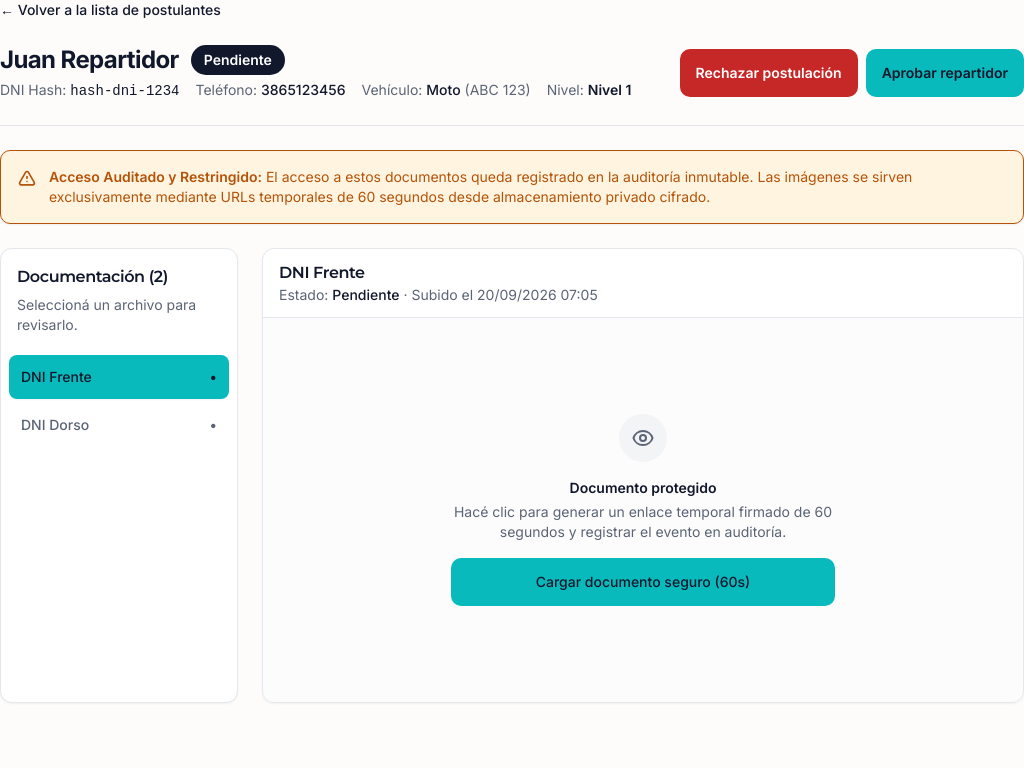
Test: T-380: reactivar o reconsiderar con reinstateCourierAction (CC-034) › la primera decisión (pendiente) también muestra el mensaje claro ante INVALID_STATE_TRANSITION
Click the button "Aprobar repartidor": (945, 72) [866, 48, 1023, 96]
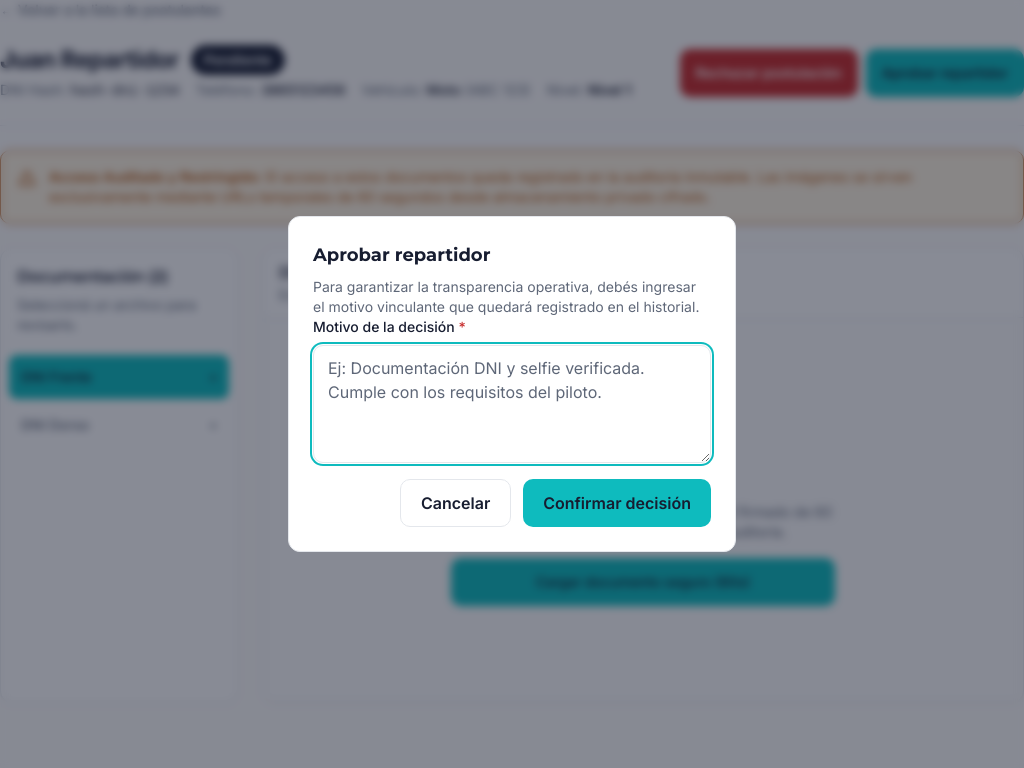
Replace the text in the text box labelled "Motivo de la decisión *" with "Se revisó el reclamo y no hubo falta del repartidor.": (512, 404) [313, 345, 711, 463]
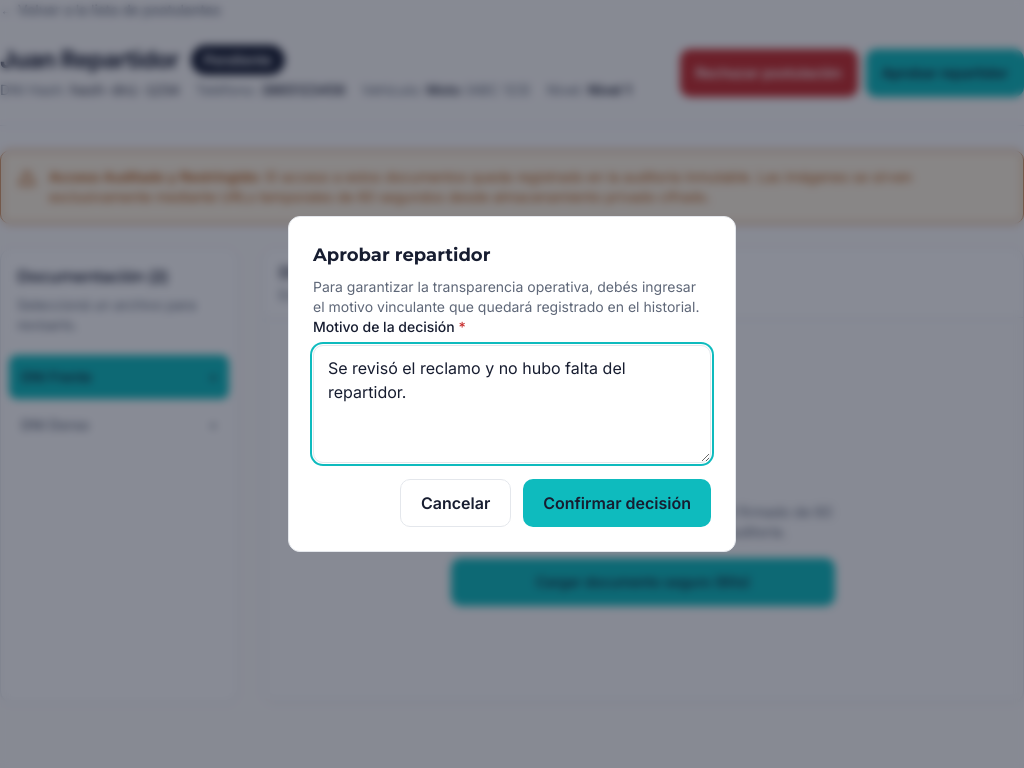
Click the button "Confirmar decisión": (617, 503) [523, 479, 711, 527]
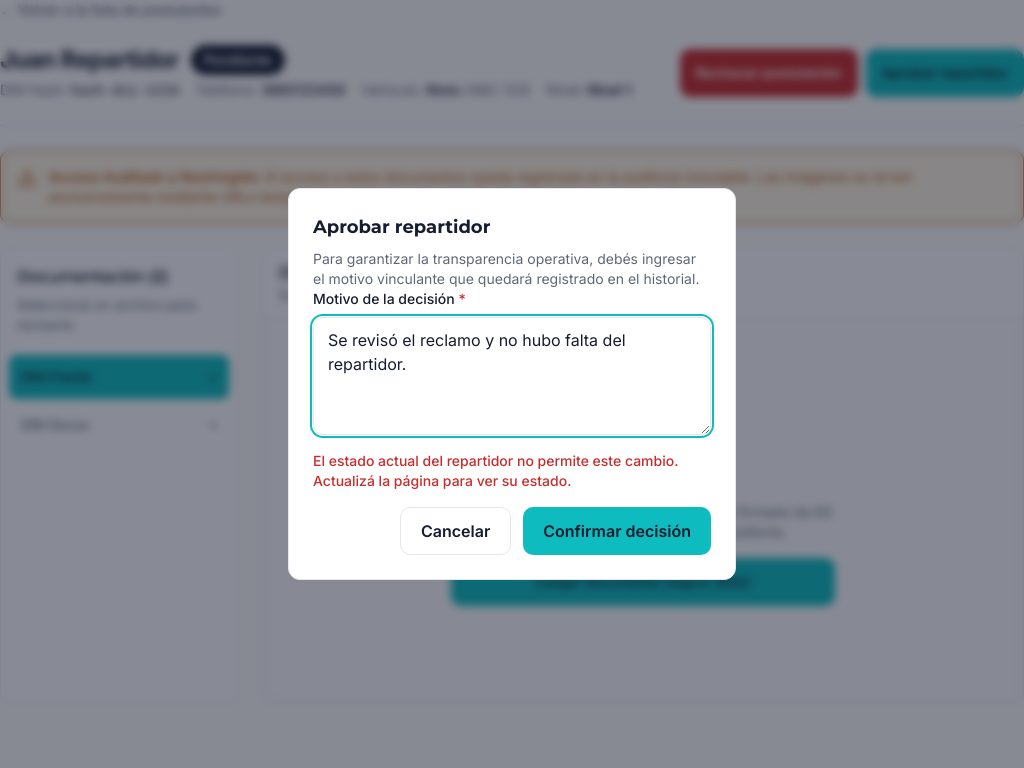
Expected: the message shows "El estado actual del repartidor no permite este cambio. Actualizá la página para ver su estado.", [313, 452, 678, 489]
